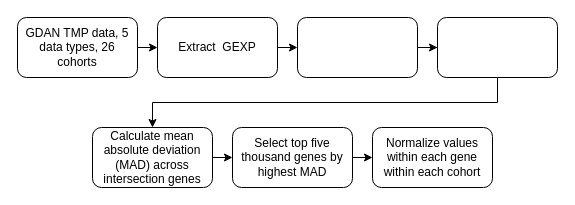
Some shapes in this 575 by 205 pixel diagram are drawn without their labels. Here are the shapes that lost their labels. From the top down, the centre of each, then its label:
point (357, 47): Drop LGGGBM
point (497, 47): Take intersection of genes across remaining 25 cohorts
